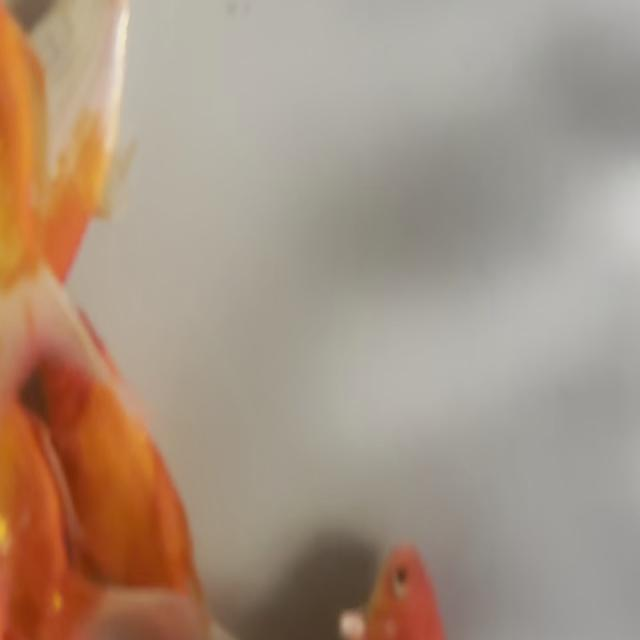fish: (7, 301, 210, 636), (12, 0, 142, 286), (0, 301, 77, 640), (273, 531, 478, 640)
